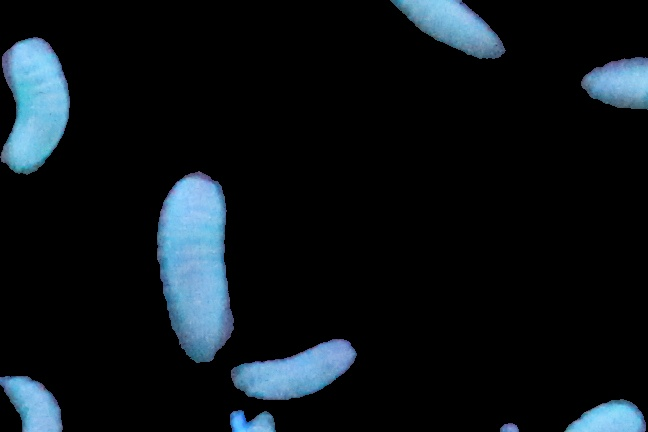larvae: (154, 172, 243, 361), (3, 32, 71, 177), (370, 1, 508, 61), (233, 339, 354, 403), (578, 56, 648, 115), (1, 365, 61, 432)
